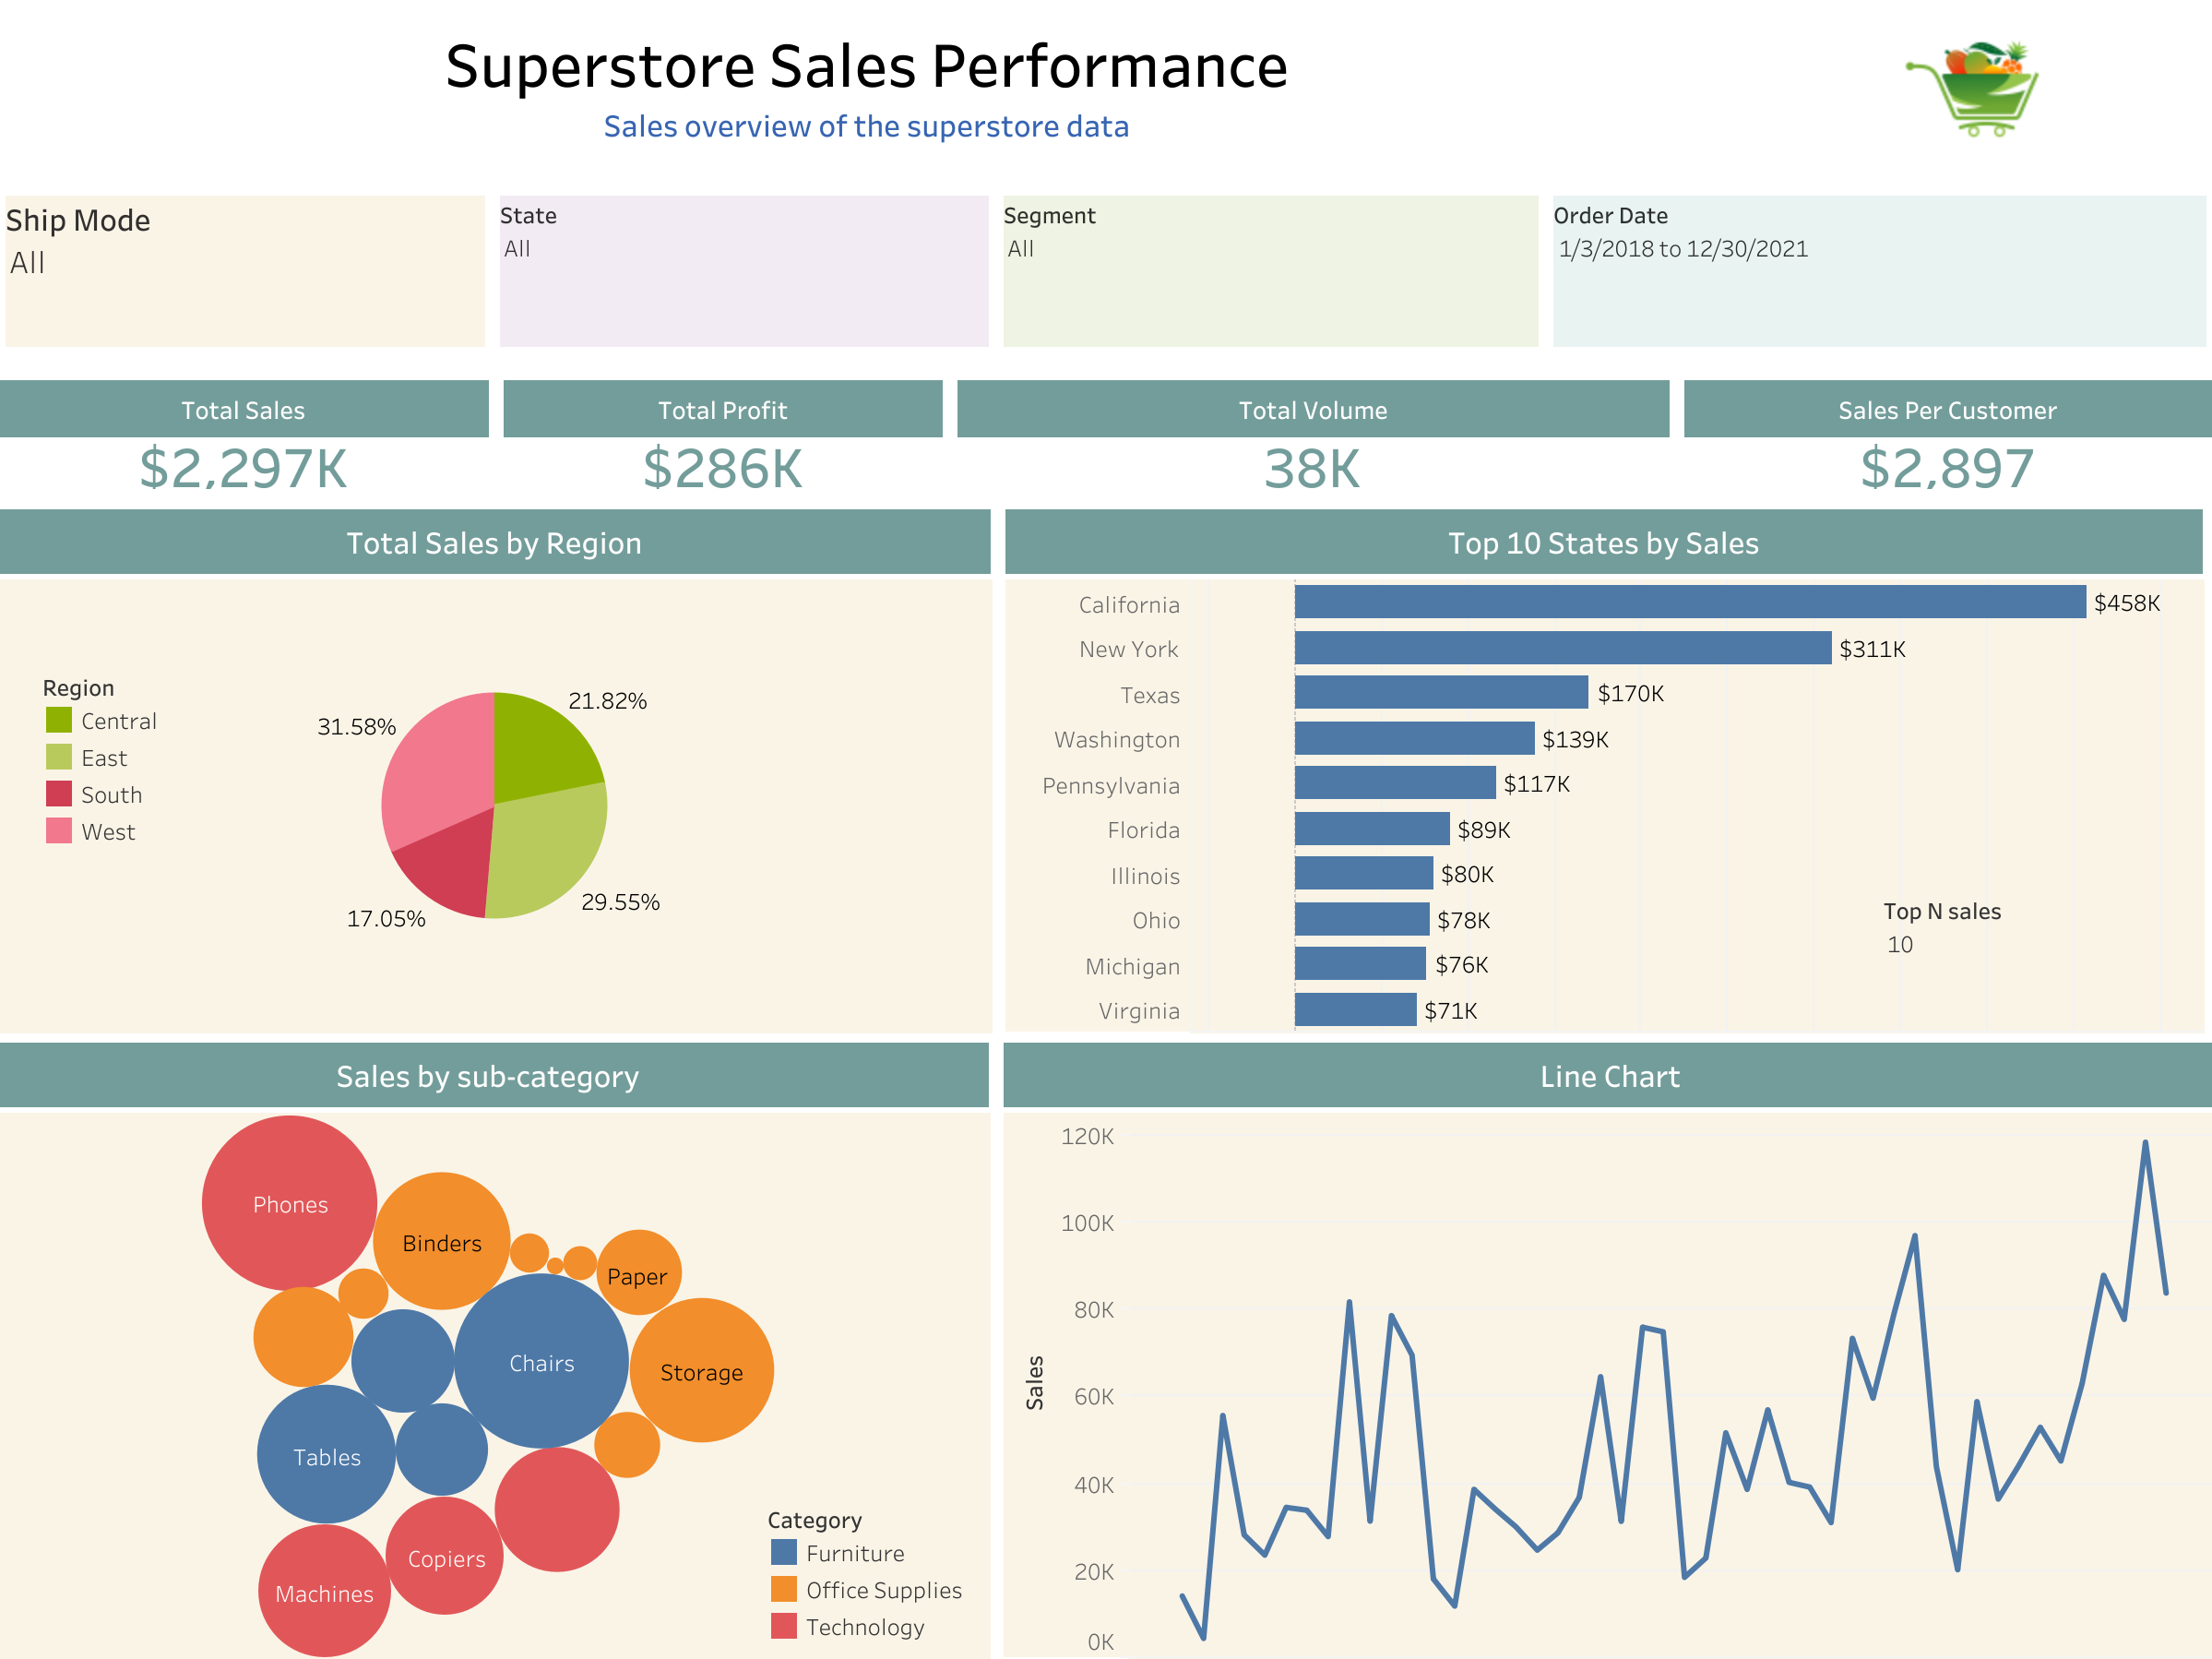

The page's visual inventory and layout, read from the dashboard file:
{"tool":"tableau","page":{"name":"Sales Dashboard","canvas":[1200,900],"ordinal":0},"visuals":[{"type":"filter","title":"Total Profit","param":"[federated.11kvomr1ur491u1etdrte0m2bwy8].[none:State:nk]","box":[267,102,273,90]},{"type":"filter","title":"Total Volume","param":"[federated.11kvomr1ur491u1etdrte0m2bwy8].[none:Segment:nk]","box":[540,102,298,90]},{"type":"filter","title":"Line Chart","param":"[federated.11kvomr1ur491u1etdrte0m2bwy8].[none:Order Date:qk]","box":[838,102,362,90]},{"type":"worksheet","title":"Total Profit","mark":"Automatic","box":[269.5,202.2,246,66.7]},{"type":"worksheet","title":"Total Volume","mark":"Automatic","box":[515.5,202.2,394,66.7]},{"type":"worksheet","title":"Sales Per Customer","mark":"Automatic","box":[909.4,202.2,294,66.7]},{"type":"worksheet","title":"Top N States by Sales","mark":"Automatic","rows":["State"],"cols":["Sales"],"box":[541,272,657,291]},{"type":"legend","title":"Total Sales by Region","param":"[federated.11kvomr1ur491u1etdrte0m2bwy8].[none:Region:nk]","box":[21.6,361.1,79.6,103.8]},{"type":"parameter","param":"[Parameters].[Parameter 1]","box":[1021,483,153,74]},{"type":"worksheet","title":"Line Chart","mark":"Automatic","rows":["Sales"],"cols":["Order Date"],"box":[540,561,666,341]},{"type":"legend","title":"Sales by sub-category","param":"[federated.11kvomr1ur491u1etdrte0m2bwy8].[none:Category:nk]","box":[415.2,812.1,127.4,82.6]}]}

Visuals, with their boxes in screenshot pixels (x1, y1, x2, y2), scaled from the page's 1200x900 canvas onto the 2212x1659 screenshot:
"Total Profit" filter: x1=493, y1=188, x2=995, y2=354
"Total Volume" filter: x1=995, y1=188, x2=1545, y2=354
"Line Chart" filter: x1=1545, y1=188, x2=2211, y2=354
"Total Profit" worksheet: x1=497, y1=373, x2=950, y2=495
"Total Volume" worksheet: x1=950, y1=373, x2=1676, y2=495
"Sales Per Customer" worksheet: x1=1676, y1=373, x2=2211, y2=495
"Top N States by Sales" worksheet: x1=997, y1=501, x2=2208, y2=1038
"Total Sales by Region" legend: x1=40, y1=665, x2=186, y2=857
parameter: x1=1882, y1=890, x2=2164, y2=1027
"Line Chart" worksheet: x1=995, y1=1034, x2=2211, y2=1658
"Sales by sub-category" legend: x1=766, y1=1497, x2=1000, y2=1649
